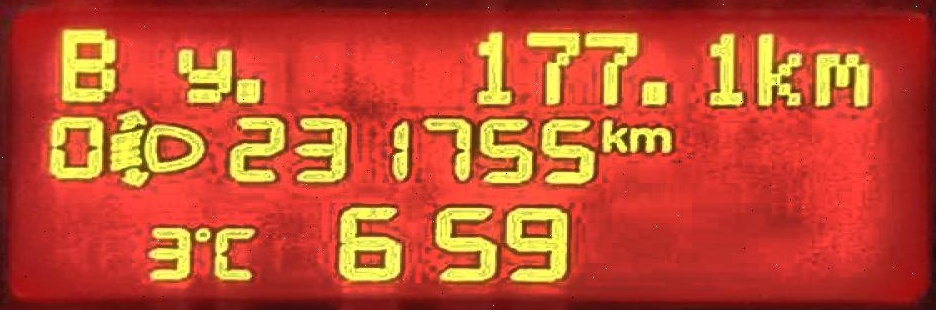-: (232, 76, 262, 104), (637, 79, 667, 106)
0: (45, 114, 105, 179)
1: (473, 29, 512, 104), (705, 30, 743, 106), (386, 119, 410, 181)
2: (223, 114, 287, 183)
3: (290, 114, 348, 183), (143, 225, 192, 280)
5: (428, 204, 497, 283), (475, 116, 533, 184), (538, 117, 595, 183)
6: (333, 204, 402, 281)
7: (521, 30, 580, 105), (582, 30, 638, 105), (418, 115, 472, 181)
9: (500, 204, 570, 283)
X: (55, 26, 115, 104), (752, 30, 803, 106), (173, 45, 233, 104), (810, 52, 870, 108), (210, 225, 255, 281), (627, 125, 672, 152), (598, 117, 627, 153)
